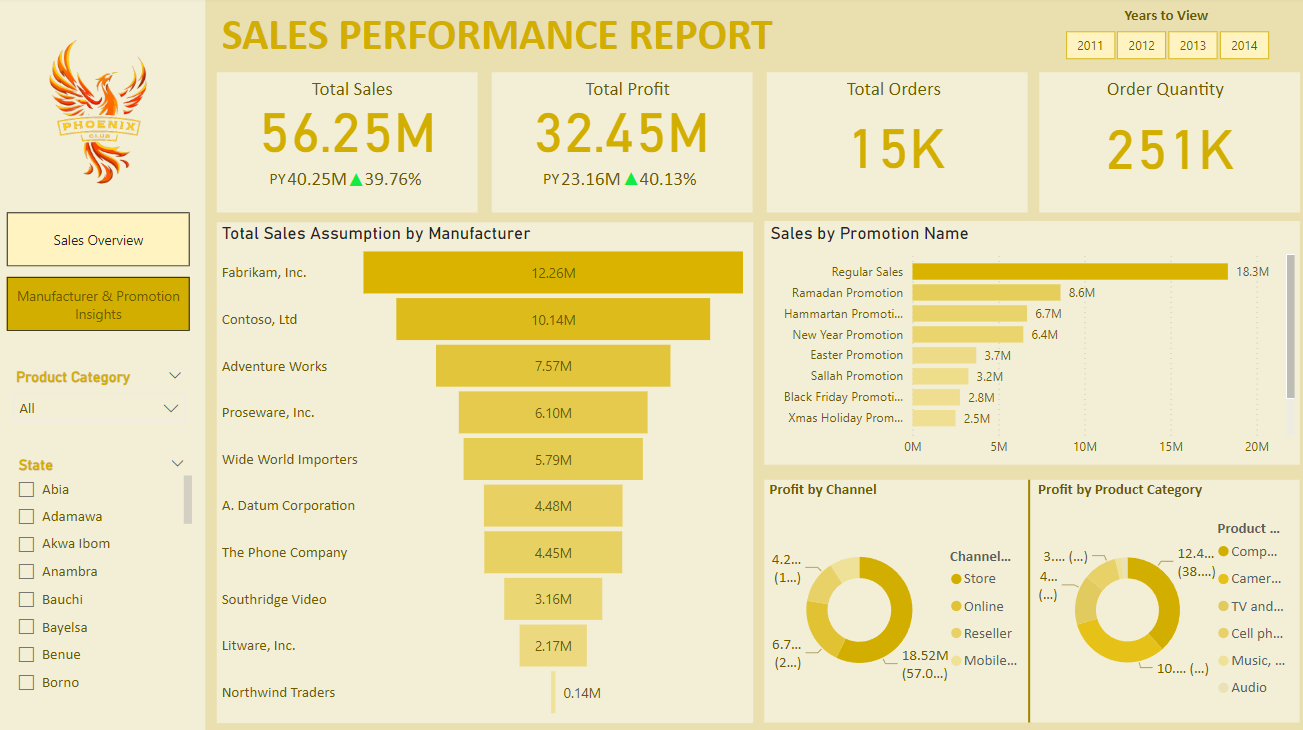

Layout of this report page (visuals, bound fields, positions):
{"tool":"powerbi","page":{"name":"Manufacturer & Promotion Insights","canvas":[1280,720],"ordinal":1},"visuals":[{"type":"shape","box":[0,0,202.9,720],"z":0},{"type":"image","box":[7.5,5.8,181.7,213.3],"z":1000},{"type":"textbox","box":[214,6.1,692.1,62.4],"z":2000},{"type":"shape","box":[482.5,75.2,255.2,137.2],"z":3000},{"type":"card","fields":{"Values":["Measures_Table.Total Profit Assumption"]},"box":[516.8,91.6,186.6,70],"z":4000},{"type":"textbox","box":[569.8,74.6,146.7,34.2],"z":5000},{"type":"card","fields":{"Values":["Measures_Table.Profit YOY%"]},"box":[619.4,161.4,71.4,37.1],"z":6000},{"type":"card","fields":{"Values":["Measures_Table.Sales Icon"]},"box":[596.4,161.6,45.3,37],"z":7000},{"type":"card","fields":{"Values":["Measures_Table.Previous Year Profit"]},"box":[542.3,161.4,77.1,37.1],"z":8000},{"type":"textbox","box":[528.5,164.2,34.7,32],"z":9000},{"type":"shape","box":[752,75,255.2,137.2],"z":10000},{"type":"card","fields":{"Values":["Measures_Table.Total Order Quantity"]},"box":[785.7,107.6,187.5,70],"z":11000},{"type":"textbox","box":[825.4,74.6,160.2,34.2],"z":12000},{"type":"shape","box":[214,75.1,255.2,137.2],"z":13000},{"type":"card","fields":{"Values":["Measures_Table.Total Sales Assumption"]},"box":[248.3,91.6,186.6,70],"z":14000},{"type":"textbox","box":[302,74.6,119.8,34.2],"z":15000},{"type":"card","fields":{"Values":["Measures_Table.Sales YOY%"]},"box":[350.9,161.3,71.4,37.1],"z":16000},{"type":"card","fields":{"Values":["Measures_Table.Previous Year Sales"]},"box":[273.7,161.3,77.1,37.1],"z":17000},{"type":"textbox","box":[260,164.1,34.7,32],"z":18000},{"type":"shape","box":[1018.9,74,255.2,137.2],"z":19000},{"type":"card","fields":{"Values":["Measures_Table.Total Order Quantity"]},"box":[1052.9,108.9,187.5,70],"z":20000},{"type":"textbox","box":[1079.8,74.6,170,35.5],"z":21000},{"type":"shape","box":[213.8,221.2,525,490],"z":22000},{"type":"shape","box":[750,220,524.3,238.6],"z":23000},{"type":"shape","box":[750,473.8,523.8,237.5],"z":24000},{"type":"card","fields":{"Values":["Measures_Table.Sales Icon"]},"box":[327.7,161.5,45.4,37.7],"z":25000},{"type":"slicer","title":"Years to View","fields":{"Values":["Sales_Data.Order Date.Variation.Date Hierarchy.Year"]},"box":[1018.8,10,248.8,58.8],"z":26000},{"type":"slicer","fields":{"Values":["Sales_Product_Sub_Cat.Product Category"]},"box":[5,360,187.5,75],"z":27000},{"type":"slicer","fields":{"Values":["Sales_State.State"]},"box":[7.5,445,187.5,247.5],"z":28000},{"type":"pageNavigator","box":[8.6,211.6,179.8,116.2],"z":29000},{"type":"barChart","title":"Sales by Promotion Name","fields":{"Y":["Measures_Table.Total Sales Assumption"],"Category":["Sales_Promotion.PromotionName"]},"box":[751.2,221.2,522.5,237.5],"z":30000},{"type":"donutChart","title":"Profit by Channel","fields":{"Y":["Measures_Table.Total Profit Assumption"],"Category":["Sales_Channel.ChannelName"]},"box":[750,473.8,262.5,237.5],"z":31000},{"type":"funnel","title":"Total Sales by Manufacturer","fields":{"Y":["Measures_Table.Total Sales Assumption"],"Category":["Sales_Product.Manufacturer"]},"box":[213.8,221.2,525,490],"z":32000},{"type":"donutChart","title":"Profit by Product Category","fields":{"Y":["Measures_Table.Total Profit Assumption"],"Category":["Sales_Product_Sub_Cat.Product Category"]},"box":[1012.5,473.8,261.2,237.5],"z":33000},{"type":"shape","box":[985,473.8,46.2,237.5],"z":34000}]}

Visuals, with their boxes in screenshot pixels (x1, y1, x2, y2), scaled from the page's 1280x720 canvas onto the 1303x730 screenshot:
shape: <bbox>0, 0, 207, 729</bbox>
image: <bbox>8, 6, 193, 222</bbox>
textbox: <bbox>218, 6, 922, 69</bbox>
shape: <bbox>491, 76, 751, 215</bbox>
card - Measures_Table.Total Profit Assumption: <bbox>526, 93, 716, 164</bbox>
textbox: <bbox>580, 76, 729, 110</bbox>
card - Measures_Table.Profit YOY%: <bbox>631, 164, 703, 201</bbox>
card - Measures_Table.Sales Icon: <bbox>607, 164, 653, 201</bbox>
card - Measures_Table.Previous Year Profit: <bbox>552, 164, 631, 201</bbox>
textbox: <bbox>538, 166, 573, 199</bbox>
shape: <bbox>766, 76, 1025, 215</bbox>
card - Measures_Table.Total Order Quantity: <bbox>800, 109, 991, 180</bbox>
textbox: <bbox>840, 76, 1003, 110</bbox>
shape: <bbox>218, 76, 478, 215</bbox>
card - Measures_Table.Total Sales Assumption: <bbox>253, 93, 443, 164</bbox>
textbox: <bbox>307, 76, 429, 110</bbox>
card - Measures_Table.Sales YOY%: <bbox>357, 164, 430, 201</bbox>
card - Measures_Table.Previous Year Sales: <bbox>279, 164, 357, 201</bbox>
textbox: <bbox>265, 166, 300, 199</bbox>
shape: <bbox>1037, 75, 1297, 214</bbox>
card - Measures_Table.Total Order Quantity: <bbox>1072, 110, 1263, 181</bbox>
textbox: <bbox>1099, 76, 1272, 112</bbox>
shape: <bbox>218, 224, 752, 721</bbox>
shape: <bbox>763, 223, 1297, 465</bbox>
shape: <bbox>763, 480, 1297, 721</bbox>
card - Measures_Table.Sales Icon: <bbox>334, 164, 380, 202</bbox>
"Years to View" slicer: <bbox>1037, 10, 1290, 70</bbox>
slicer - Sales_Product_Sub_Cat.Product Category: <bbox>5, 365, 196, 441</bbox>
slicer - Sales_State.State: <bbox>8, 451, 199, 702</bbox>
pageNavigator: <bbox>9, 215, 192, 332</bbox>
"Sales by Promotion Name" barChart: <bbox>765, 224, 1297, 465</bbox>
"Profit by Channel" donutChart: <bbox>763, 480, 1031, 721</bbox>
"Total Sales by Manufacturer" funnel: <bbox>218, 224, 752, 721</bbox>
"Profit by Product Category" donutChart: <bbox>1031, 480, 1297, 721</bbox>
shape: <bbox>1003, 480, 1050, 721</bbox>
